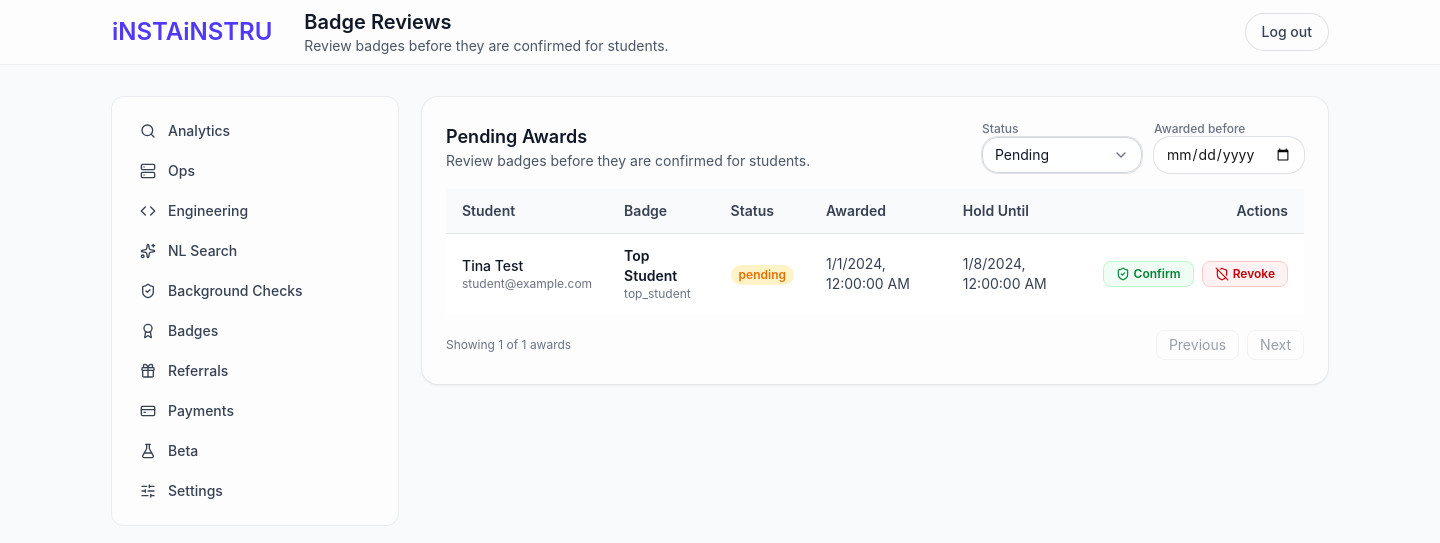
Scenario: AdminPendingBadgesPage › revokes an award
Expected: the text "Top Student" is shown, x1=624 y1=247 x2=677 y2=284
Click the button "Revoke".
click(1245, 274)  # box x1=1202 y1=261 x2=1288 y2=287
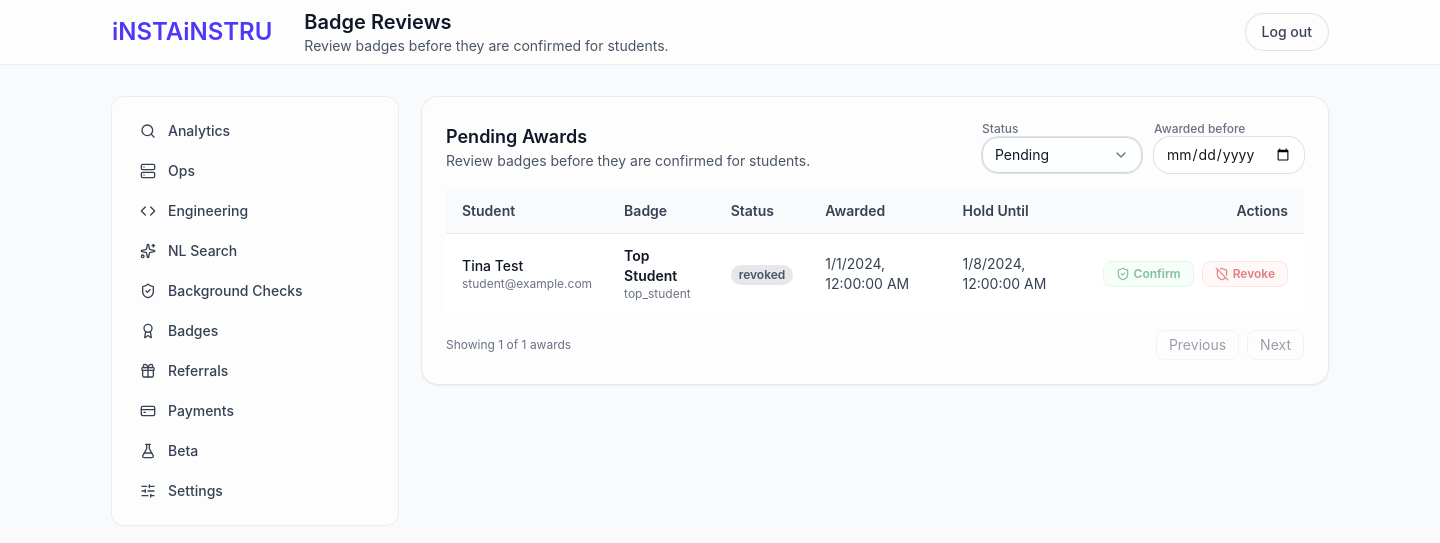
Expected: the text "revoked" is shown, x1=731 y1=264 x2=793 y2=284
